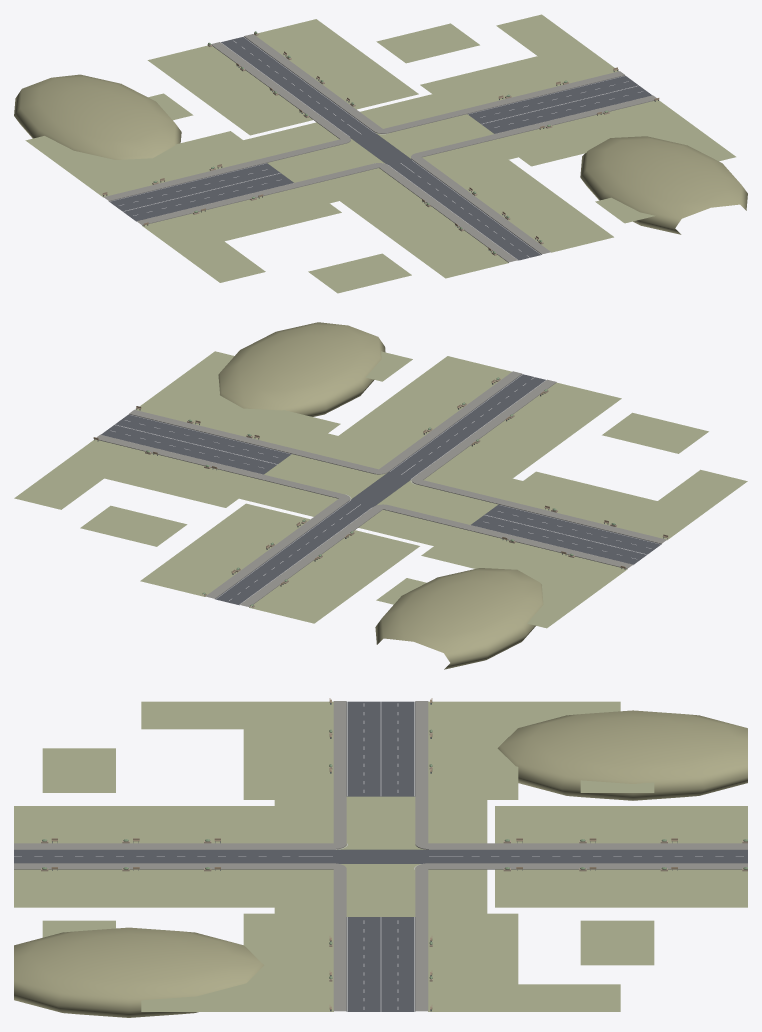
3 views of the same model, one above another, from view 1: azimuth 30°, elevation 25°; view 2: azimuth 150°, elevation 25°; view 3: azimuth 270°, elevation 25° (orthographic). The views are drawn at different scales.
Parts seen in each view (by area): view 1: static; view 2: static; view 3: static.
Boxes of the visible parts, x1=… form: static: x1=14, y1=14, x2=747, y2=293; static: x1=14, y1=322, x2=747, y2=669; static: x1=14, y1=698, x2=747, y2=1017.
Size of what is drawn, in the model's own units: 180 by 14.08 by 180.
